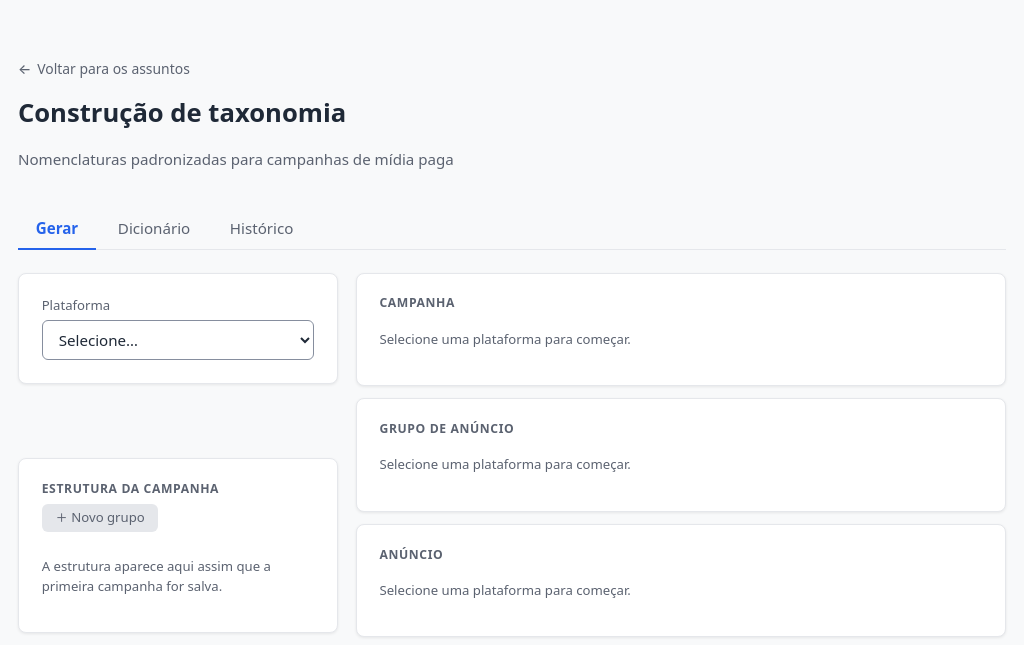
Scenario: preview ao vivo › mostra a nomenclatura assim que os campos ficam completos
This screenshot has width=1024, height=645.
Step 1. Select "Meta (FB)" in the dropdown labelled "Plataforma" → (178, 340), box [42,320,314,360]
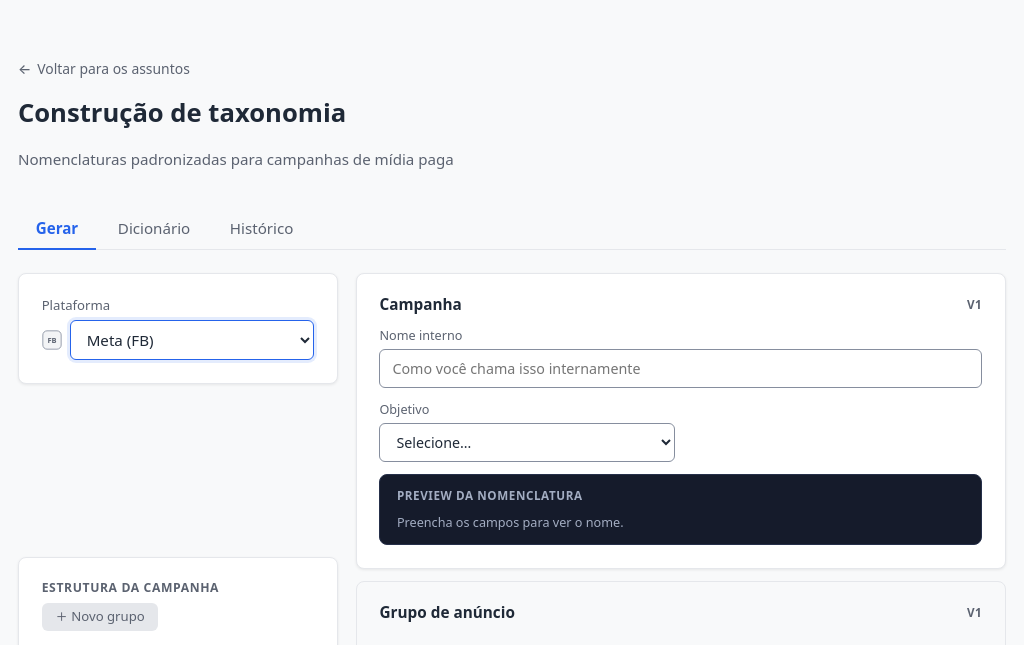
Step 2. Select "Conversão → CV" in the dropdown labelled "Objetivo" → (527, 443), box [380,423,675,462]
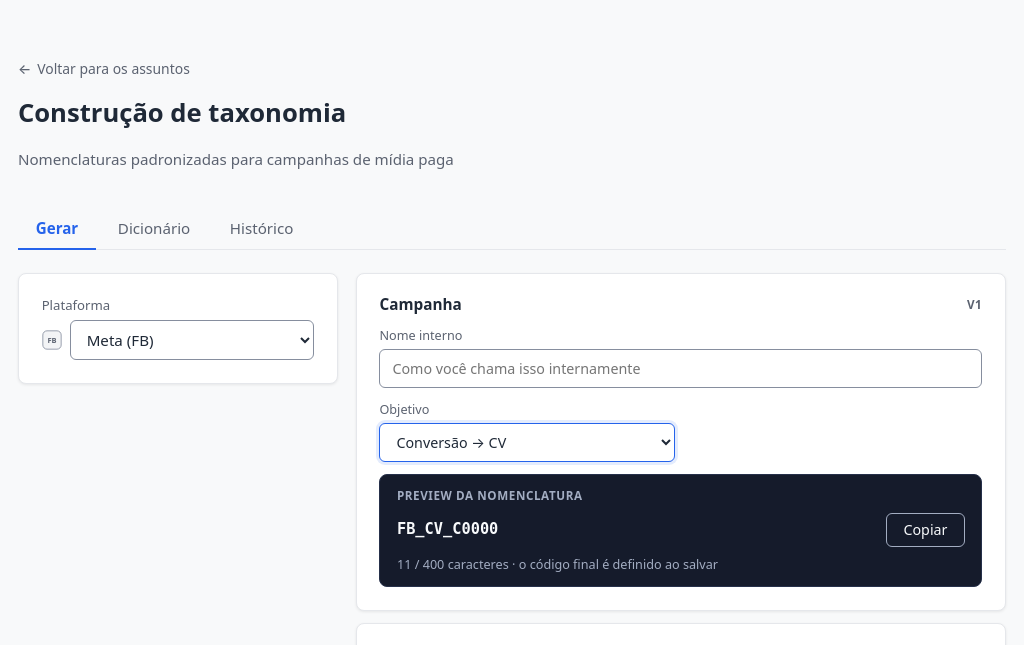
Expected: the text "FB_CV_C0000" is shown, [397,520,498,538]
Expected: the text "11 / 400 caracteres · o código final é definido ao salvar" is shown, [397,555,718,573]
